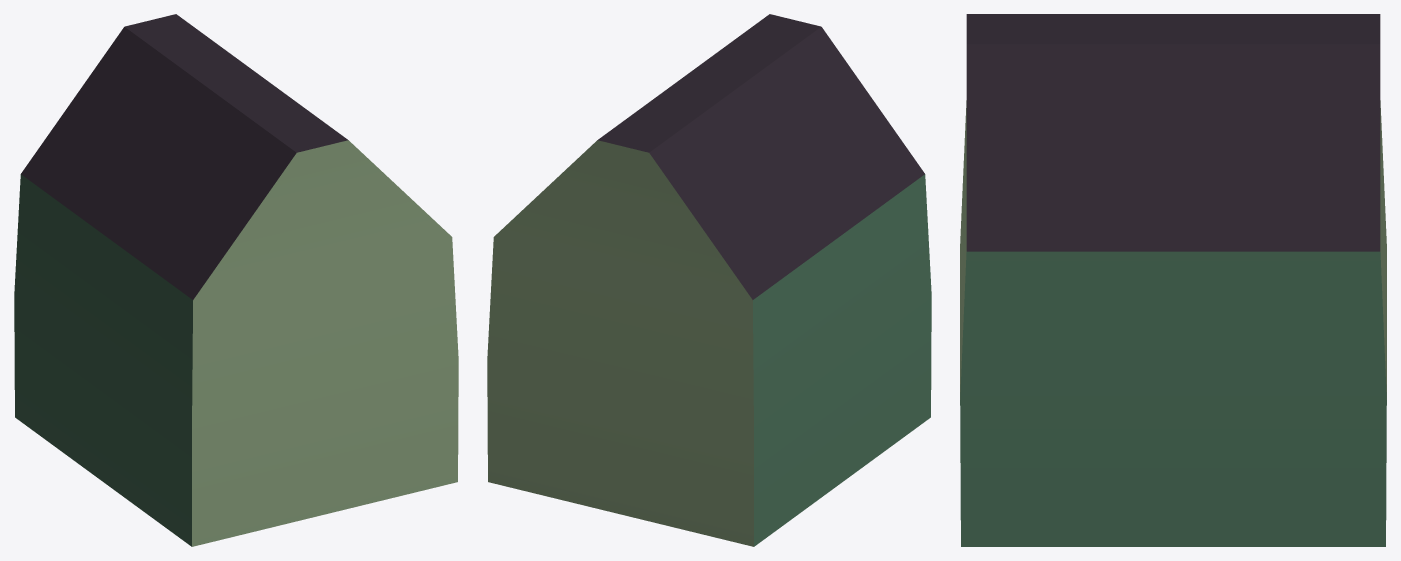
Rendered from House03_Green.glb.
3 renders of one model, left to right at view 1: azimuth 30°, elevation 25°; view 2: azimuth 150°, elevation 25°; view 3: azimuth 270°, elevation 25°, orthographic. The views are drawn at different scales.
Parts seen in each view (by area): view 1: House03_Green; view 2: House03_Green; view 3: House03_Green.
Boxes of the visible parts, left/top/right/bottom form: House03_Green: left=14, top=14, right=458, bottom=546; House03_Green: left=487, top=14, right=931, bottom=546; House03_Green: left=960, top=14, right=1386, bottom=546.
Bounding box in the file's own units: 1.91 × 2.51 × 2.21.
1 material, 1 textured.
